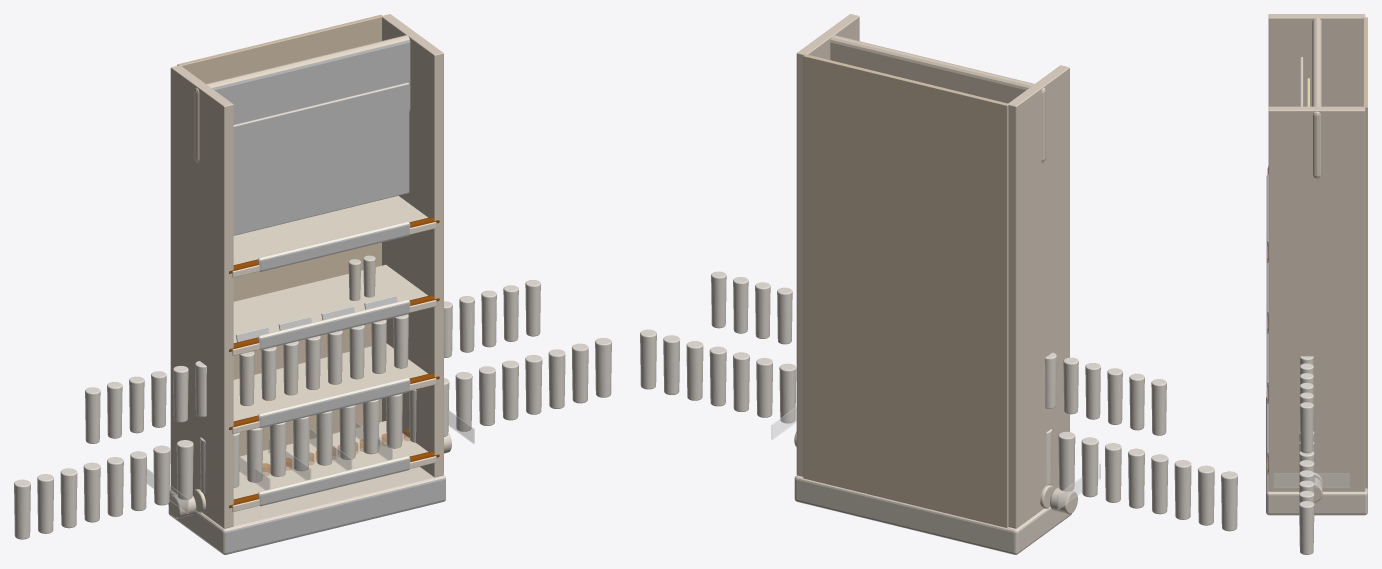
The model's file is qwen3_8_max.obj.
3 views of the same model, side by side, from view 1: azimuth 30°, elevation 25°; view 2: azimuth 150°, elevation 25°; view 3: azimuth 270°, elevation 25° (orthographic). The views are drawn at different scales.
Parts seen in each view (by area): view 1: carcass.side_1, header.graphic, carcass.side_2, carcass.back, plinth.base, header.crown, shelf.deck_3, shelf.deck_4, shelf.deck_2, shelf.deck_1, shelf.talker_2, shelf.talker_3 (+41 smaller); view 2: carcass.back, carcass.side_1, plinth.base, header.crown, carcass.side_2, product.bottle.pump_26, product.bottle.pump_5, product.bottle.pump_1, product.bottle.pump_22, product.bottle.pump_7, product.bottle.pump_23, product.bottle.pump_4 (+17 smaller); view 3: carcass.side_2, carcass.side_1, plinth.base, carcass.back, header.crown, shelf.divider_8, product.bottle.pump_26, product.bottle.cap_21, shelf.talker_4, header.graphic, shelf.talker_2, shelf.talker_1 (+8 smaller).
Boxes of the visible parts, x1,y1,x2,y2 form: carcass.side_1: (170, 65, 233, 528); header.graphic: (233, 82, 409, 235); carcass.side_2: (382, 14, 443, 477); carcass.back: (177, 14, 382, 456); plinth.base: (168, 466, 445, 554); header.crown: (194, 33, 414, 162); shelf.deck_3: (232, 264, 436, 355); shelf.deck_4: (232, 195, 436, 277); shelf.deck_2: (232, 343, 436, 433); shelf.deck_1: (232, 421, 436, 511); shelf.talker_2: (257, 378, 410, 427); shelf.talker_3: (257, 299, 410, 349); carcass.back: (803, 54, 1008, 527); carcass.side_1: (1008, 65, 1069, 528); plinth.base: (794, 475, 1071, 554); header.crown: (826, 33, 1045, 162); carcass.side_2: (796, 14, 859, 476); product.bottle.pump_26: (640, 329, 656, 389); product.bottle.pump_5: (1128, 448, 1144, 508); product.bottle.pump_1: (1221, 471, 1237, 531); product.bottle.pump_22: (733, 352, 749, 411); product.bottle.pump_7: (1081, 437, 1098, 497); product.bottle.pump_23: (709, 346, 726, 406); product.bottle.pump_4: (1151, 454, 1168, 514); carcass.side_2: (1268, 106, 1365, 491); carcass.side_1: (1268, 14, 1365, 106); plinth.base: (1266, 397, 1367, 515); carcass.back: (1363, 17, 1367, 488); header.crown: (1312, 15, 1321, 178); shelf.divider_8: (1274, 473, 1349, 487); product.bottle.pump_26: (1299, 501, 1314, 554); product.bottle.cap_21: (1299, 402, 1313, 453); shelf.talker_4: (1266, 174, 1268, 250); header.graphic: (1300, 57, 1303, 106); shelf.talker_2: (1266, 321, 1268, 391); shelf.talker_1: (1266, 392, 1268, 462).
Bounding box in the file's own units: 2.43 × 1.75 × 0.4.
